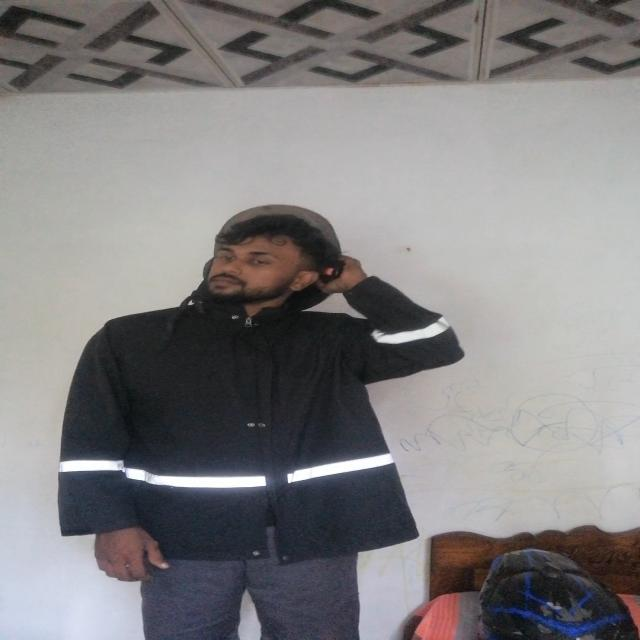Jacket_Wearer: (68, 293, 467, 574)
Person: (82, 201, 437, 640)
